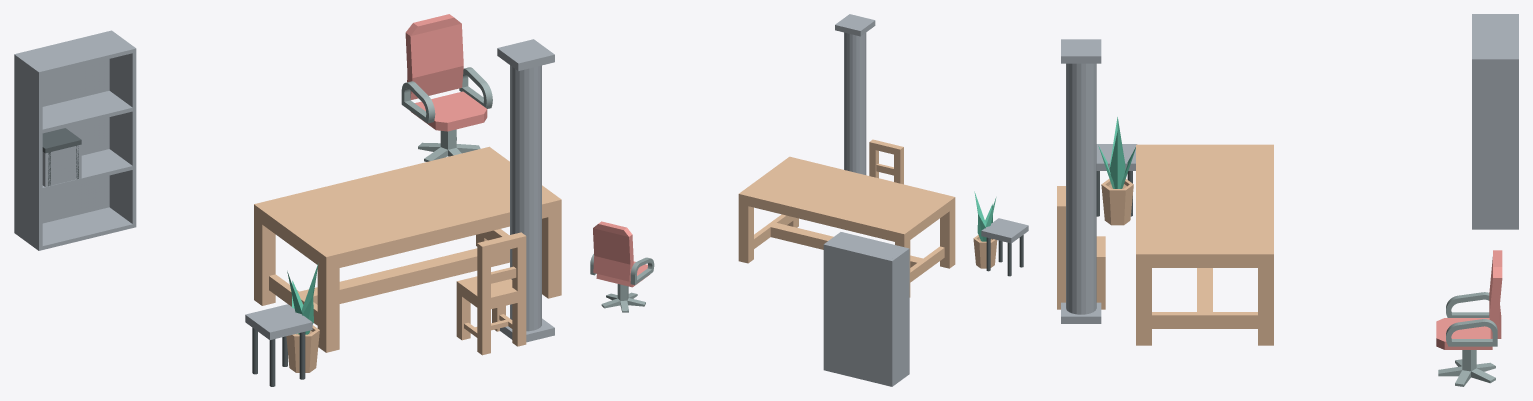
3 renders of one model, left to right at view 1: azimuth 30°, elevation 25°; view 2: azimuth 150°, elevation 25°; view 3: azimuth 270°, elevation 25°, orthographic. The views are drawn at different scales.
Parts seen in each view (by area): view 1: table_green__table(Clone), deskchair_black__chair, column_cyan__column_cyan shaft, chair_cyan__chair(Clone), shelf_orange__shelf_orange back, shelf_orange__shelf_orange side_l, shelf_orange__shelf_orange side_r, shelf_orange__shelf_orange board3, shelf_orange__shelf_orange board2, shelf_orange__shelf_orange board0, stool_purple__stool_purple seat, box_yellow__box_yellow shell (+7 smaller); view 2: table_green__table(Clone), shelf_orange__shelf_orange back, column_cyan__column_cyan shaft, deskchair_black__chair, shelf_orange__shelf_orange side_l, shelf_orange__shelf_orange board3, chair_cyan__chair(Clone), stool_purple__stool_purple seat, deskchair_black__chairDesk(Clone), column_cyan__column_cyan capital, plant_pink__pottedPlant(Clone), shelf_orange__shelf_orange side_r (+1 smaller); view 3: table_green__table(Clone), shelf_orange__shelf_orange side_r, column_cyan__column_cyan shaft, deskchair_black__chair, shelf_orange__shelf_orange board3, chair_cyan__chair(Clone), plant_pink__pottedPlant(Clone), deskchair_black__chairDesk(Clone), column_cyan__column_cyan capital, plant_pink__plant, stool_purple__stool_purple seat, column_cyan__column_cyan plinth.
Boxes of the visible parts, bbox=[...] form: table_green__table(Clone): bbox=[254, 146, 561, 352]; deskchair_black__chair: bbox=[401, 14, 492, 131]; column_cyan__column_cyan shaft: bbox=[510, 65, 541, 331]; chair_cyan__chair(Clone): bbox=[456, 232, 526, 355]; shelf_orange__shelf_orange back: bbox=[18, 31, 109, 223]; shelf_orange__shelf_orange side_l: bbox=[14, 53, 42, 250]; shelf_orange__shelf_orange side_r: bbox=[108, 30, 136, 227]; shelf_orange__shelf_orange board3: bbox=[19, 32, 132, 74]; shelf_orange__shelf_orange board2: bbox=[42, 90, 132, 133]; shelf_orange__shelf_orange board0: bbox=[42, 207, 132, 249]; stool_purple__stool_purple seat: bbox=[245, 304, 312, 339]; box_yellow__box_yellow shell: bbox=[42, 144, 81, 186]; table_green__table(Clone): bbox=[738, 156, 955, 297]; shelf_orange__shelf_orange back: bbox=[826, 244, 889, 386]; column_cyan__column_cyan shaft: bbox=[844, 32, 866, 174]; deskchair_black__chair: bbox=[590, 221, 654, 287]; shelf_orange__shelf_orange side_l: bbox=[889, 248, 909, 386]; shelf_orange__shelf_orange board3: bbox=[827, 232, 906, 259]; chair_cyan__chair(Clone): bbox=[869, 139, 903, 184]; stool_purple__stool_purple seat: bbox=[981, 218, 1028, 243]; deskchair_black__chairDesk(Clone): bbox=[601, 284, 645, 312]; column_cyan__column_cyan capital: bbox=[835, 14, 875, 36]; plant_pink__pottedPlant(Clone): bbox=[973, 235, 997, 268]; shelf_orange__shelf_orange side_r: bbox=[823, 232, 842, 370]; table_green__table(Clone): bbox=[1136, 144, 1273, 345]; shelf_orange__shelf_orange side_r: bbox=[1472, 57, 1518, 229]; column_cyan__column_cyan shaft: bbox=[1066, 63, 1096, 314]; deskchair_black__chair: bbox=[1436, 250, 1502, 349]; shelf_orange__shelf_orange board3: bbox=[1472, 15, 1516, 57]; chair_cyan__chair(Clone): bbox=[1057, 186, 1105, 309]; plant_pink__pottedPlant(Clone): bbox=[1101, 178, 1133, 225]; deskchair_black__chairDesk(Clone): bbox=[1438, 350, 1495, 386]; column_cyan__column_cyan capital: bbox=[1061, 39, 1101, 63]; plant_pink__plant: bbox=[1098, 117, 1135, 188]; stool_purple__stool_purple seat: bbox=[1096, 144, 1137, 170]; column_cyan__column_cyan plinth: bbox=[1061, 302, 1101, 323].
Size of the model in its own units: 3.61 by 2.2 by 3.44.
